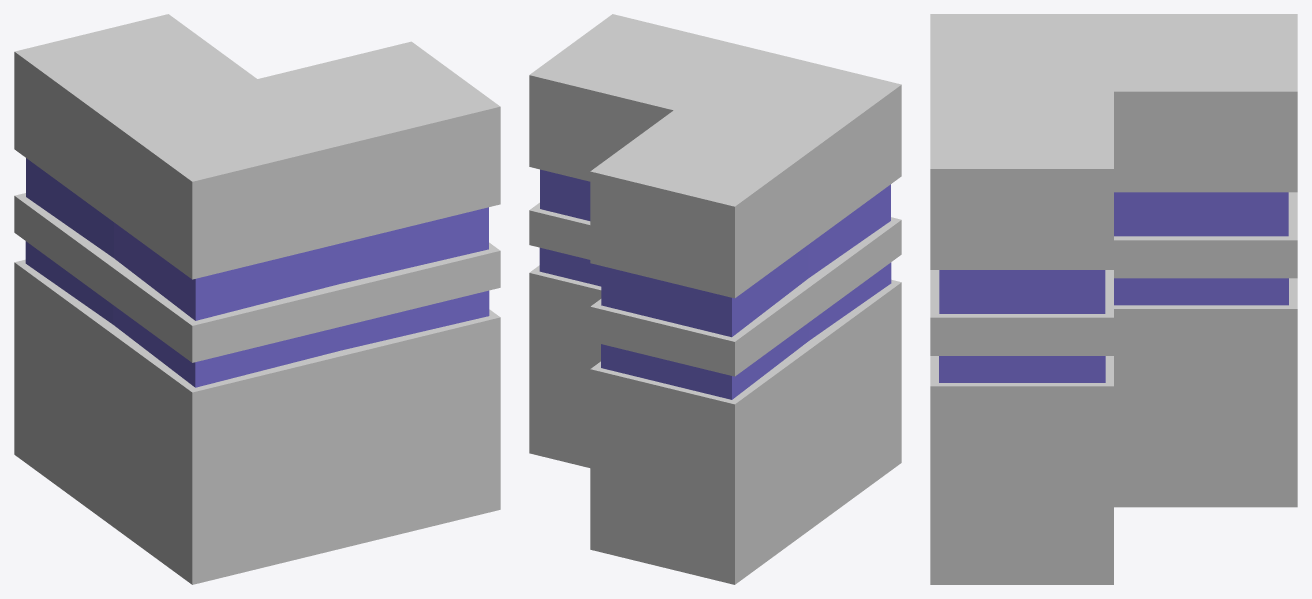
Rendered from Stage004.fbx.
3 renders of one model, left to right at view 1: azimuth 30°, elevation 25°; view 2: azimuth 150°, elevation 25°; view 3: azimuth 270°, elevation 25°, orthographic. The views are drawn at different scales.
Visible parts, largest first — view 1: Cube; view 2: Cube; view 3: Cube.
Boxes of the visible parts, x1=… form: Cube: x1=14, y1=14, x2=500, y2=584; Cube: x1=529, y1=14, x2=901, y2=584; Cube: x1=930, y1=14, x2=1297, y2=584.
Size of the model in its own units: 400 by 500 by 400.
